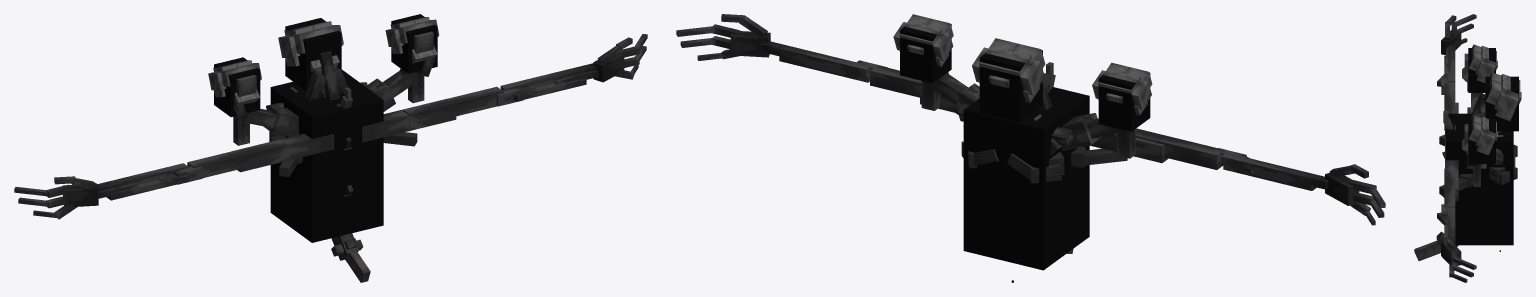
Rendered from toro_wither.obj.
3 renders of one model, left to right at view 1: azimuth 30°, elevation 25°; view 2: azimuth 150°, elevation 25°; view 3: azimuth 270°, elevation 25°, orthographic. The views are drawn at different scales.
Parts seen in each view (by area): view 1: cube; view 2: cube; view 3: cube.
Boxes of the visible parts, x1,y1,x2,y2 form: cube: (14, 14, 647, 282); cube: (676, 14, 1385, 282); cube: (1414, 14, 1521, 282).
Size of the model in its own units: 27.68 by 9.17 by 4.96.
